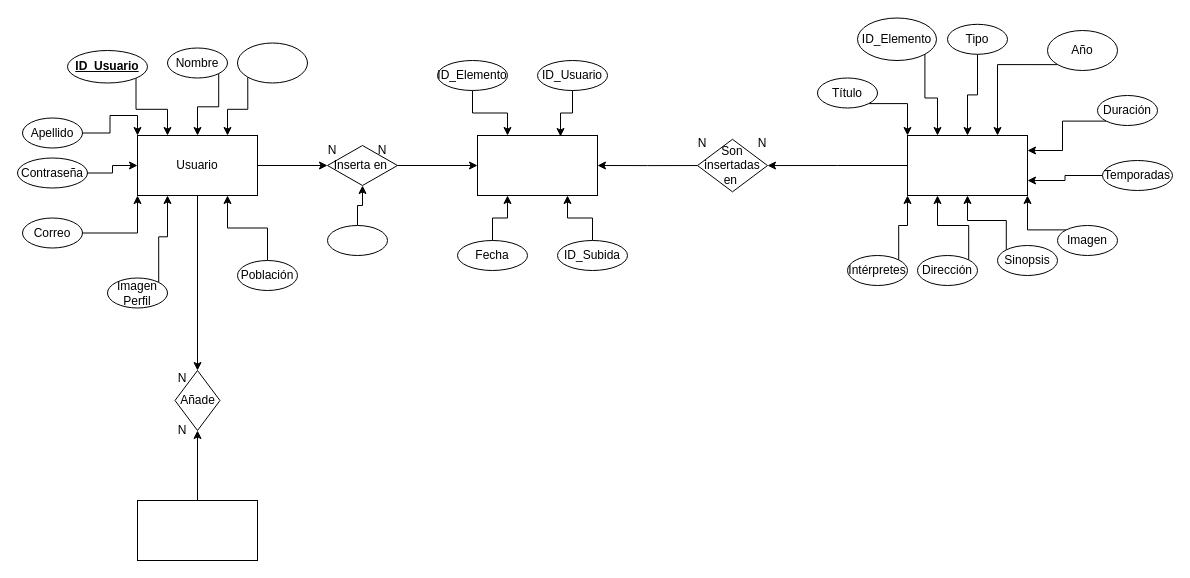
The diagram is 1190 pixels wide and 578 high, and some of its shapes have lost their labels. The shapes that lost their labels are listed below. From the top down, each one's centre as x and y in pixels, then its label:
pixel 272 62: Fecha Nacimiento
pixel 537 165: Subidas
pixel 967 165: Película/Serie
pixel 357 240: ID
pixel 197 530: Lista personal Películas/Series
